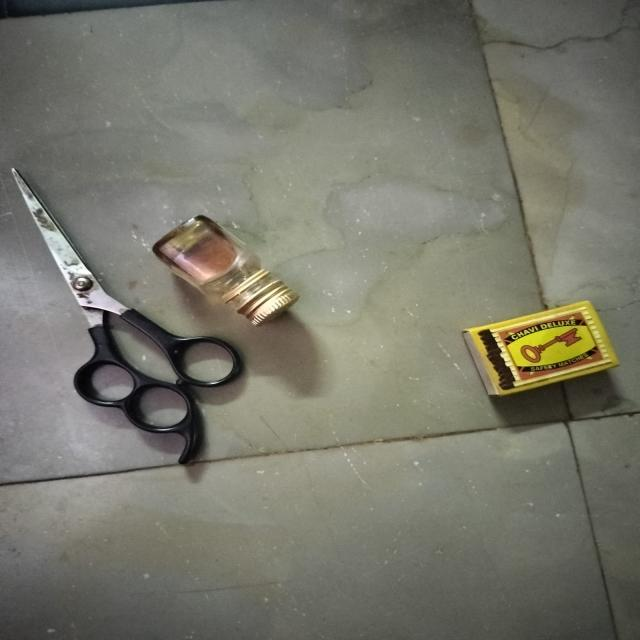paper: (139, 207, 327, 329), (445, 292, 624, 412)
plastic: (25, 151, 186, 463)
